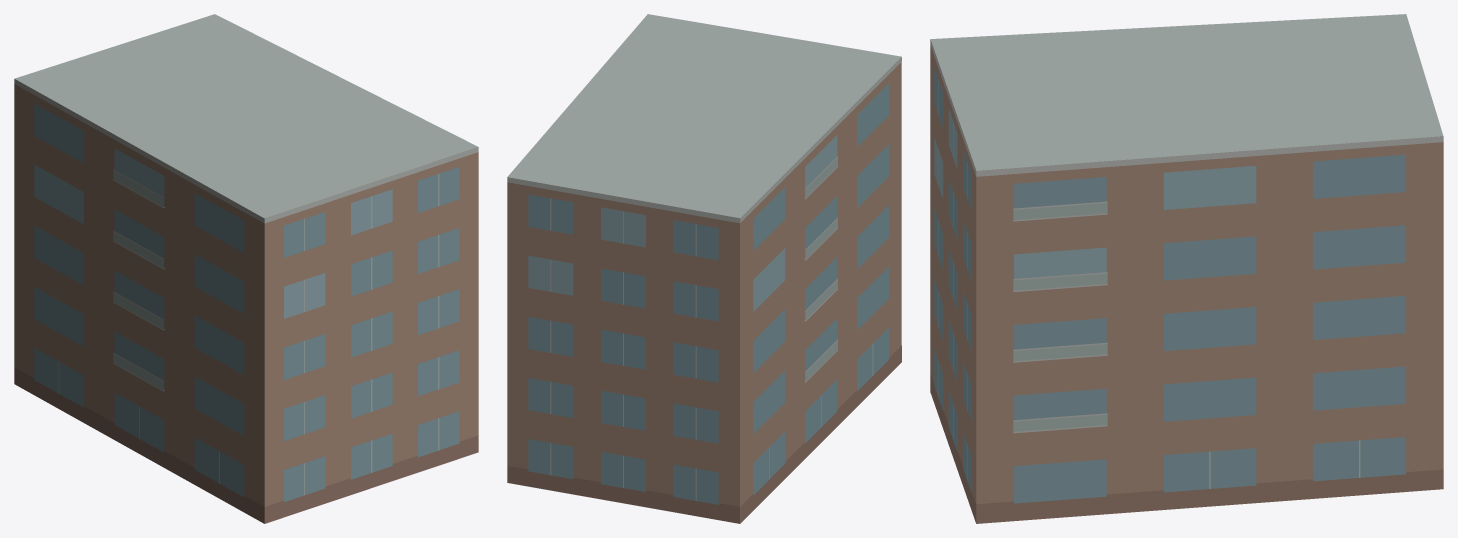
Rendered from survey-upis-32748341.glb.
3 renders of one model, left to right at view 1: azimuth 30°, elevation 25°; view 2: azimuth 150°, elevation 25°; view 3: azimuth 270°, elevation 25°, orthographic. The views are drawn at different scales.
Visible parts, largest first — view 1: survey-upis-32748341.tmp; view 2: survey-upis-32748341.tmp; view 3: survey-upis-32748341.tmp.
Boxes of the visible parts, bbox=[...] form: survey-upis-32748341.tmp: bbox=[14, 14, 478, 523]; survey-upis-32748341.tmp: bbox=[507, 14, 901, 523]; survey-upis-32748341.tmp: bbox=[930, 14, 1443, 523].
Size of the model in its own units: 13.93 by 14.6 by 19.25.
